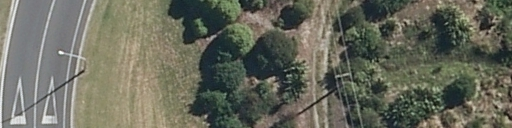DT: (331, 67, 355, 87)
